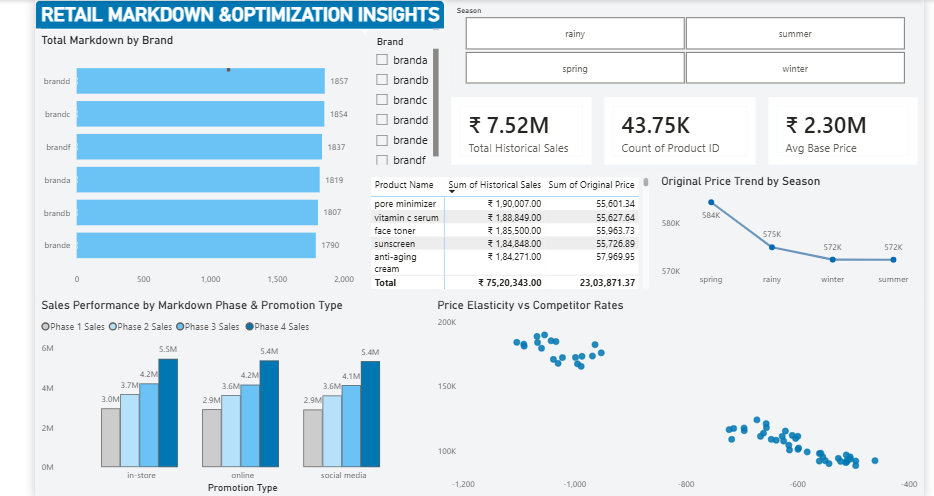

What the dashboard file says about the page in this screenshot:
{"tool":"powerbi","page":{"name":"Retail Analytics","canvas":[1280,720],"ordinal":0},"visuals":[{"type":"textbox","box":[0,0,1280.5,54.1],"z":0},{"type":"textbox","title":"RETAIL MARKDOWN &OPTIMIZATION INSIGHTS","box":[0,0,590.4,64.8],"z":1000},{"type":"slicer","fields":{"Values":["cleaned_markdown_dataset.Season"]},"box":[590.4,0,689.8,131],"z":2000},{"type":"clusteredColumnChart","title":"Sales Performance by Markdown Phase & Promotion Type","fields":{"Category":["cleaned_markdown_dataset.Promotion_Type"],"Y":["Sum(cleaned_markdown_dataset.Sales_After_M1)","Sum(cleaned_markdown_dataset.Sales_After_M2)","Sum(cleaned_markdown_dataset.Sales_After_M3)","Sum(cleaned_markdown_dataset.Sales_After_M4)"]},"box":[0,424.8,570.2,295.2],"z":3000},{"type":"scatterChart","title":"Price Elasticity vs Competitor Rates","fields":{"X":["Sum(cleaned_markdown_dataset.Price_Diff_vs_Competitor)"],"Y":["Sum(cleaned_markdown_dataset.Historical_Sales)"],"Category":["cleaned_markdown_dataset.Product_Name"]},"box":[570.2,424.8,709.9,295.2],"z":4000},{"type":"slicer","fields":{"Values":["cleaned_markdown_dataset.Brand"]},"box":[475.2,43.2,115.2,203],"z":5000},{"type":"cardVisual","fields":{"Data":["Sum(cleaned_markdown_dataset.Historical_Sales)"]},"box":[590.4,131,220.3,115.2],"z":6000},{"type":"cardVisual","fields":{"Data":["Sum(cleaned_markdown_dataset.Original_Price)"]},"box":[1046.9,131,233.3,115.2],"z":7000},{"type":"clusteredBarChart","title":"Total Markdown by Brand","fields":{"Y":["Sum(cleaned_markdown_dataset.Markdown_1)"],"Category":["cleaned_markdown_dataset.Brand"]},"box":[0,43.2,475.2,381.6],"z":8000},{"type":"pivotTable","fields":{"Rows":["cleaned_markdown_dataset.Product_Name"],"Values":["Sum(cleaned_markdown_dataset.Historical_Sales)","Sum(cleaned_markdown_dataset.Original_Price)"]},"box":[475.2,246.2,417.6,178.6],"z":9000},{"type":"lineChart","title":"Original Price Trend by Season","fields":{"Category":["cleaned_markdown_dataset.Season"],"Y":["Sum(cleaned_markdown_dataset.Original_Price)"]},"box":[892.8,246.2,387.4,178.6],"z":10000},{"type":"actionButton","box":[272.2,85,13,31.7],"z":11000},{"type":"cardVisual","fields":{"Data":["CountNonNull(cleaned_markdown_dataset.Product_ID)"]},"box":[810.7,131,236.2,115.2],"z":12000}]}

Visuals, with their boxes on the page's 1280x720 design canvas (x1, y1, x2, y2). These are canvas units, not pixel positions in the 934x496 screenshot, which may show the page scaled, cropped or inside an application window:
textbox: bbox(0, 0, 1280, 54)
"RETAIL MARKDOWN &OPTIMIZATION INSIGHTS" textbox: bbox(0, 0, 590, 65)
slicer - cleaned_markdown_dataset.Season: bbox(590, 0, 1280, 131)
"Sales Performance by Markdown Phase & Promotion Type" clusteredColumnChart: bbox(0, 425, 570, 720)
"Price Elasticity vs Competitor Rates" scatterChart: bbox(570, 425, 1280, 720)
slicer - cleaned_markdown_dataset.Brand: bbox(475, 43, 590, 246)
cardVisual - Sum(cleaned_markdown_dataset.Historical_Sales): bbox(590, 131, 811, 246)
cardVisual - Sum(cleaned_markdown_dataset.Original_Price): bbox(1047, 131, 1280, 246)
"Total Markdown by Brand" clusteredBarChart: bbox(0, 43, 475, 425)
pivotTable - cleaned_markdown_dataset.Product_Name x Sum(cleaned_markdown_dataset.Historical_Sales): bbox(475, 246, 893, 425)
"Original Price Trend by Season" lineChart: bbox(893, 246, 1280, 425)
actionButton: bbox(272, 85, 285, 117)
cardVisual - CountNonNull(cleaned_markdown_dataset.Product_ID): bbox(811, 131, 1047, 246)
